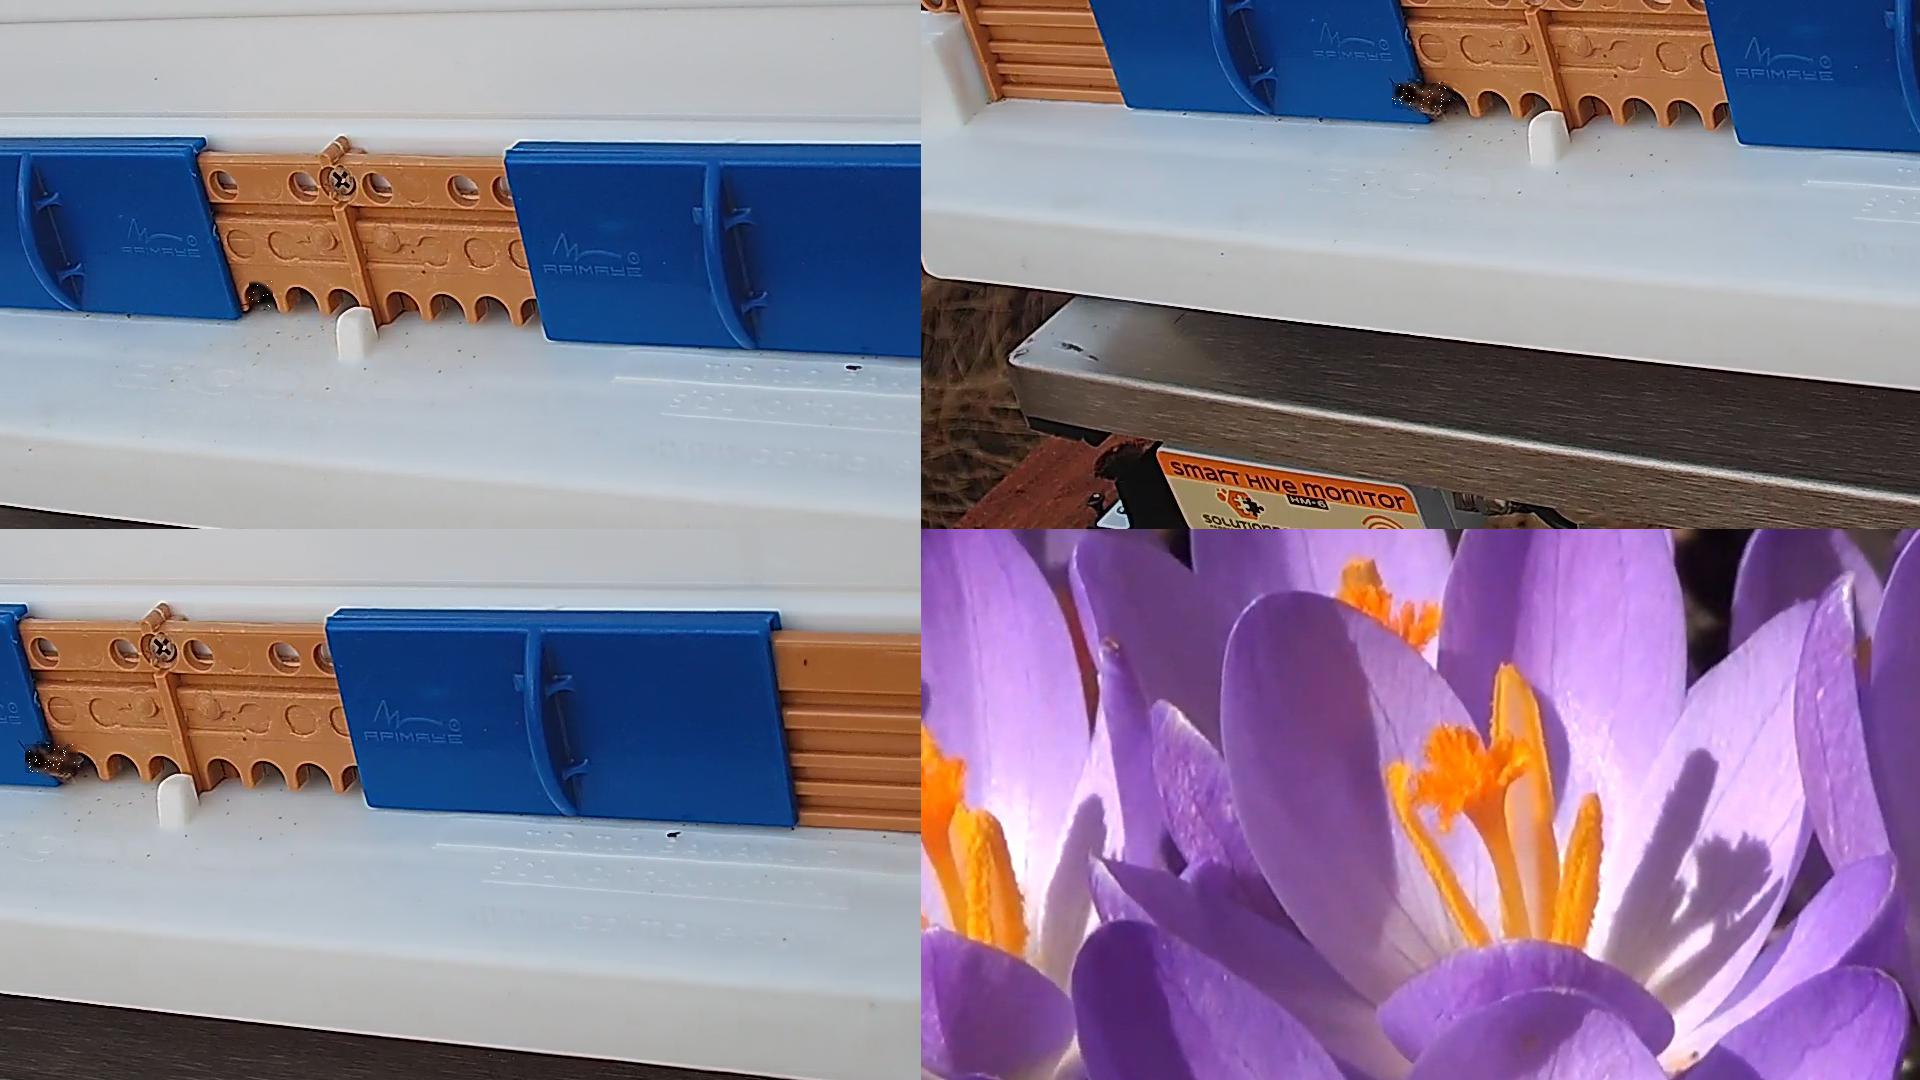bee: (1393, 84, 1456, 112), (26, 744, 80, 774), (249, 281, 274, 310)
